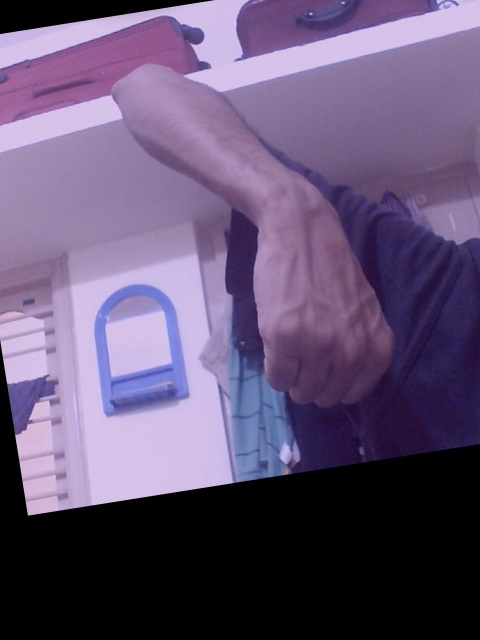hand: (250, 194, 399, 412)
